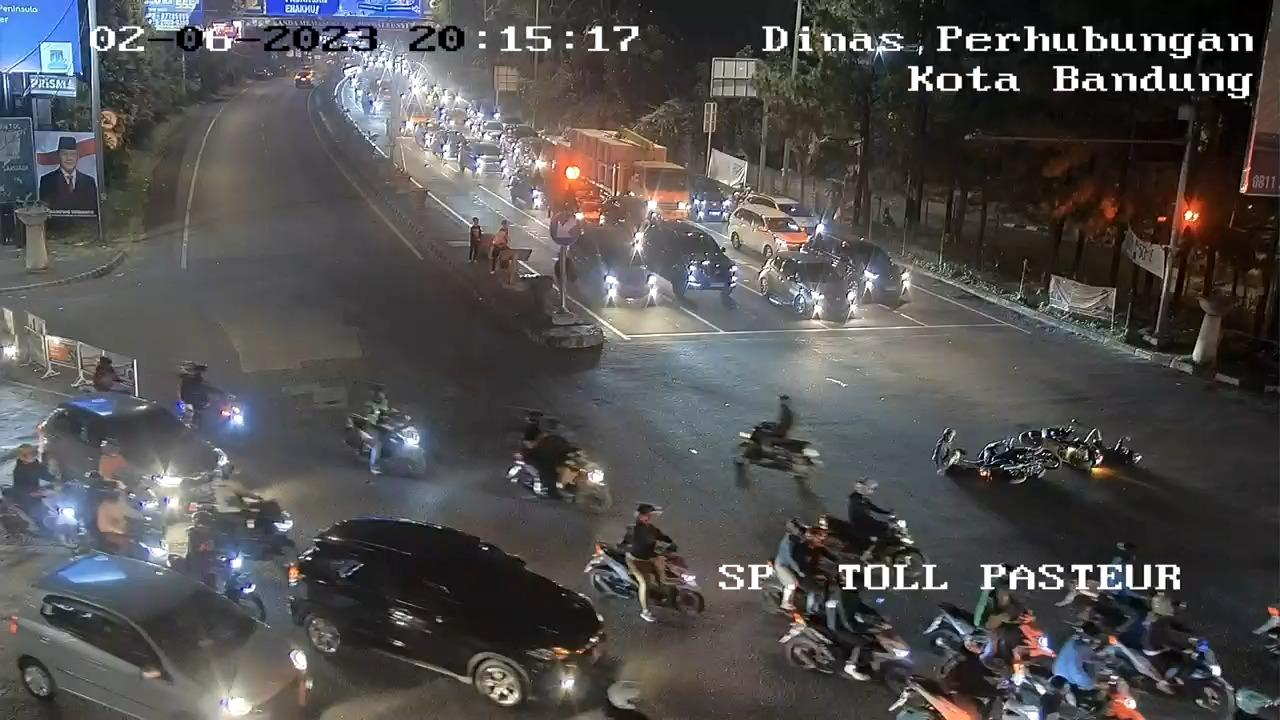accident: (932, 424, 978, 478)
